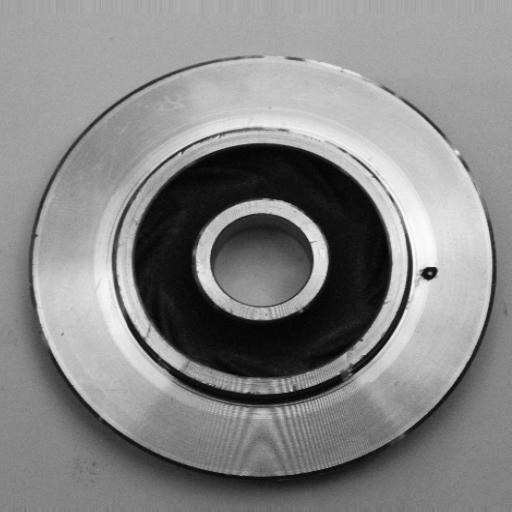pit: (412, 255, 447, 296)
scratch: (285, 32, 389, 98), (268, 114, 360, 169), (324, 346, 377, 388)
unpolished_casting: (25, 51, 497, 481)
